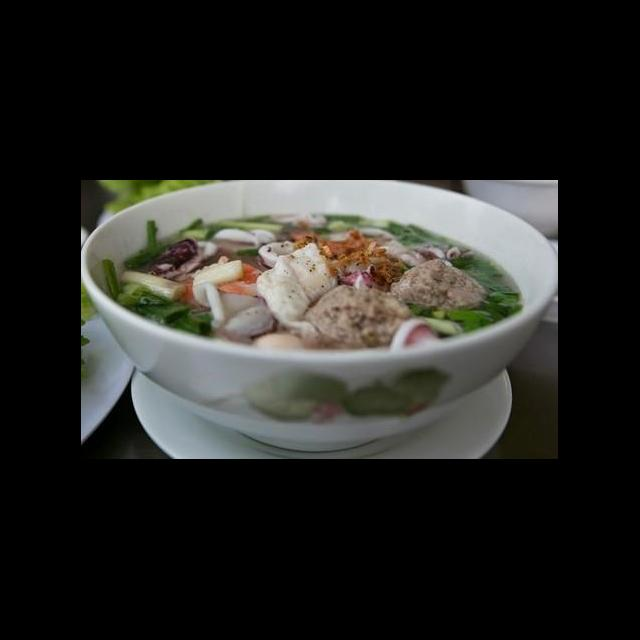muc: (142, 230, 220, 284), (332, 252, 397, 296), (392, 242, 481, 272), (384, 316, 444, 352)
tom: (176, 256, 284, 318)
